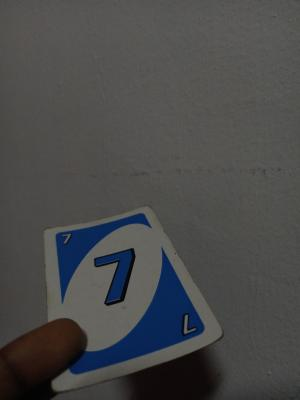blue: (54, 235, 179, 342)
num_7: (172, 306, 206, 339), (58, 232, 75, 248)
